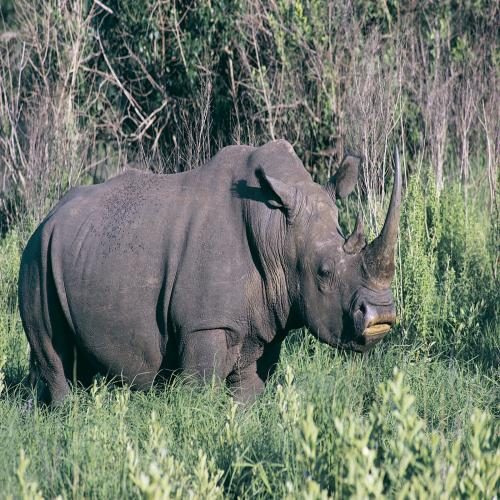rhino-endangered: (16, 134, 408, 409)
